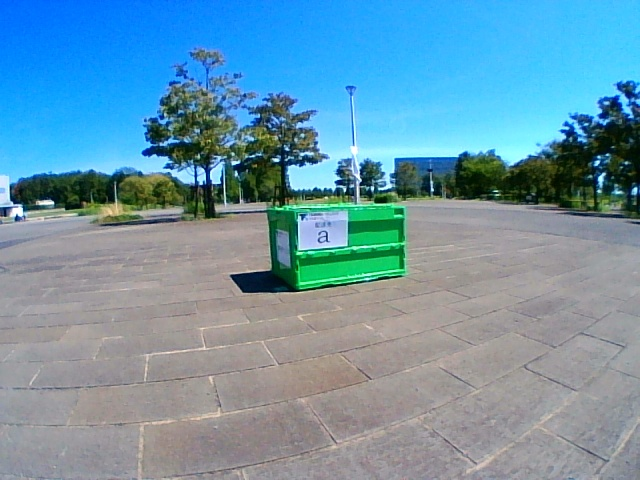green_box: (267, 203, 406, 291)
tag_a: (299, 213, 345, 247)
